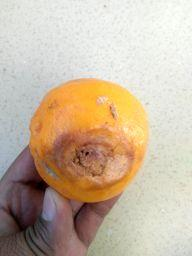Ripe: (30, 79, 145, 203)
